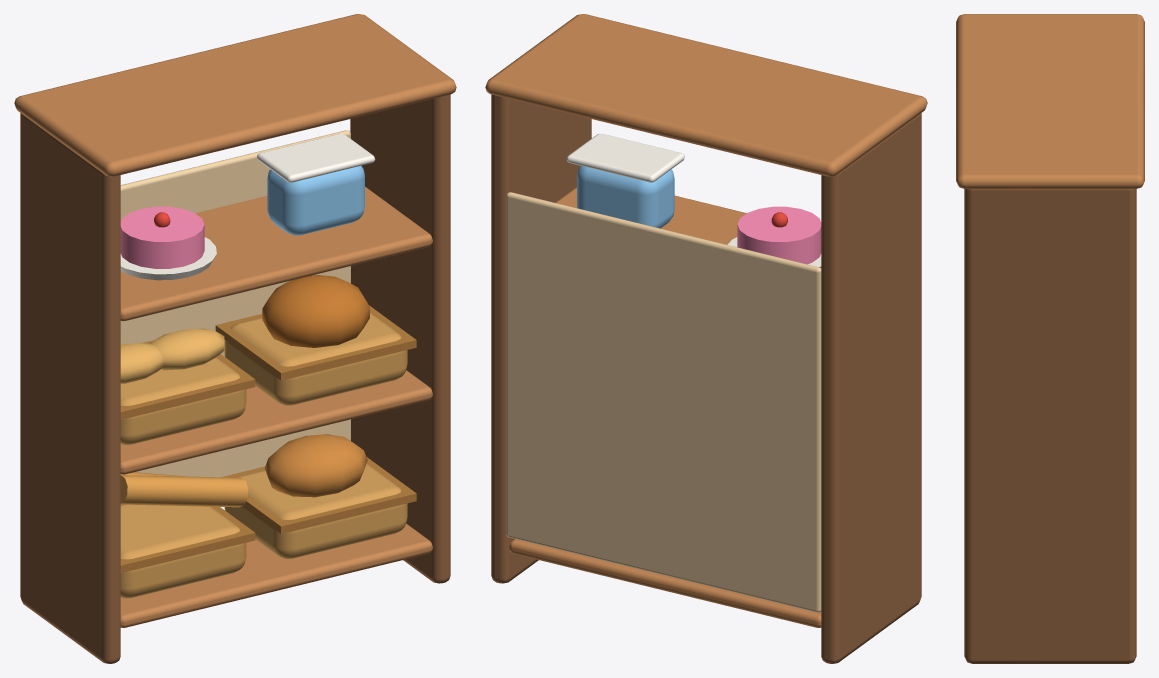
The model's file is bakerack-bread.glb.
The picture shows the model from 3 angles, left to right: view 1: azimuth 30°, elevation 25°; view 2: azimuth 150°, elevation 25°; view 3: azimuth 270°, elevation 25°; orthographic projection. The views are drawn at different scales.
Size of the model in its own units: 0.96 by 1.32 by 0.46.
